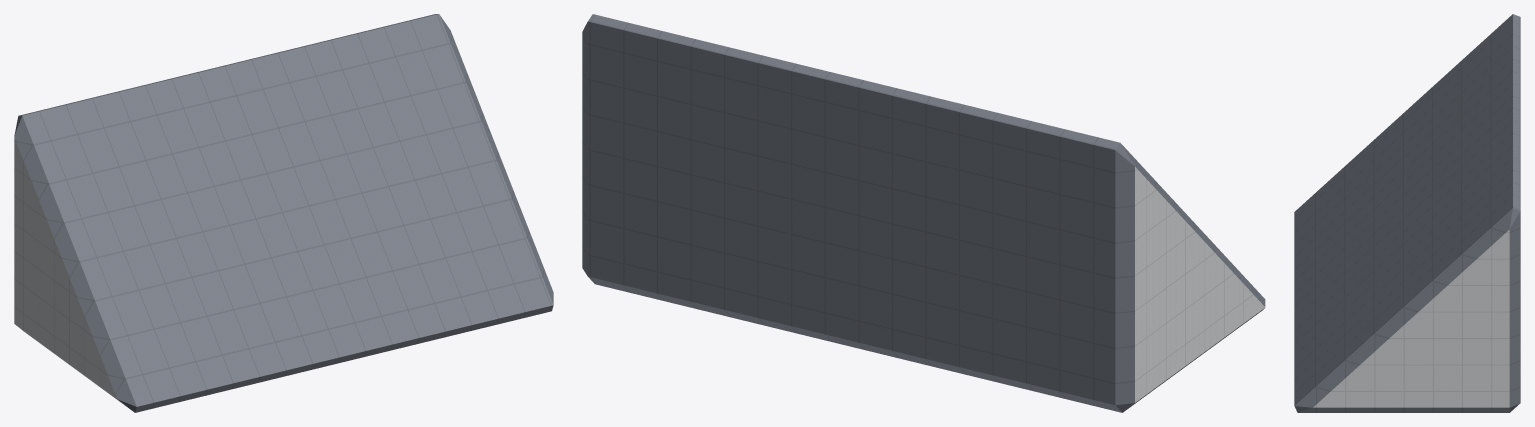
File: R4B_WideWedge_LOD1.glb
3 views of the same model, side by side, from view 1: azimuth 30°, elevation 25°; view 2: azimuth 150°, elevation 25°; view 3: azimuth 270°, elevation 25° (orthographic). The views are drawn at different scales.
Parts seen in each view (by area): view 1: R4B_WideWedge_LOD1; view 2: R4B_WideWedge_LOD1; view 3: R4B_WideWedge_LOD1.
Boxes of the visible parts, x1,y1,x2,y2 form: R4B_WideWedge_LOD1: (14, 14, 553, 412); R4B_WideWedge_LOD1: (582, 14, 1265, 412); R4B_WideWedge_LOD1: (1294, 14, 1520, 412).
Bounding box in the file's own units: 1.07 × 0.503 × 0.503.
Materials: 2 (2 with a texture image).
